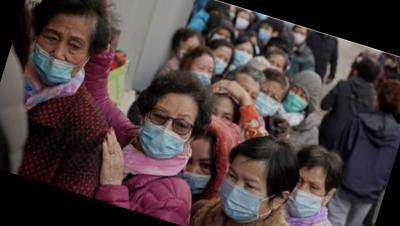mask_weared_incorrect: (23, 20, 94, 92)
with_mask: (135, 99, 197, 168), (212, 163, 275, 226), (283, 171, 331, 225), (178, 148, 218, 197), (252, 84, 285, 122), (280, 85, 313, 118), (187, 61, 218, 89), (230, 43, 256, 70), (208, 50, 233, 78), (256, 25, 276, 44), (234, 15, 252, 33), (291, 30, 309, 47)
